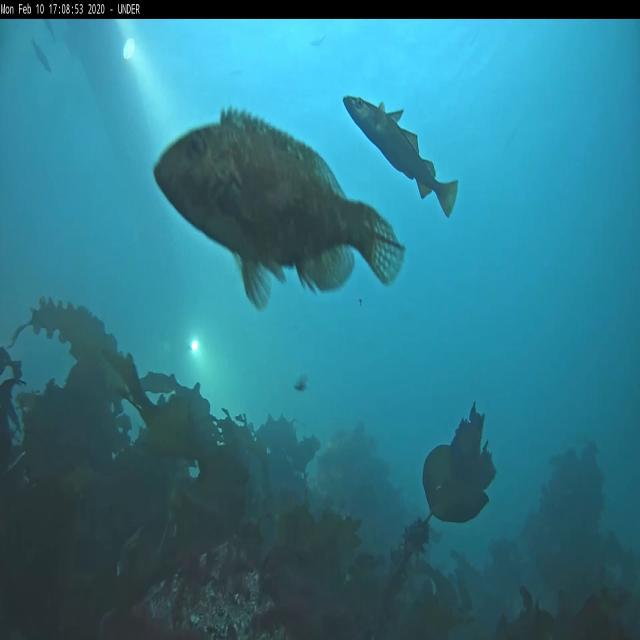fish: (152, 107, 404, 311), (342, 91, 458, 219), (29, 38, 52, 74)
